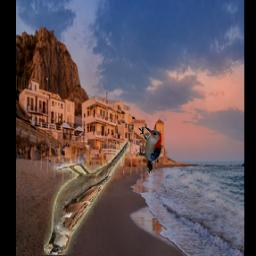Sparrow: (45, 141, 131, 255)
Woodpecker: (138, 126, 161, 175)
